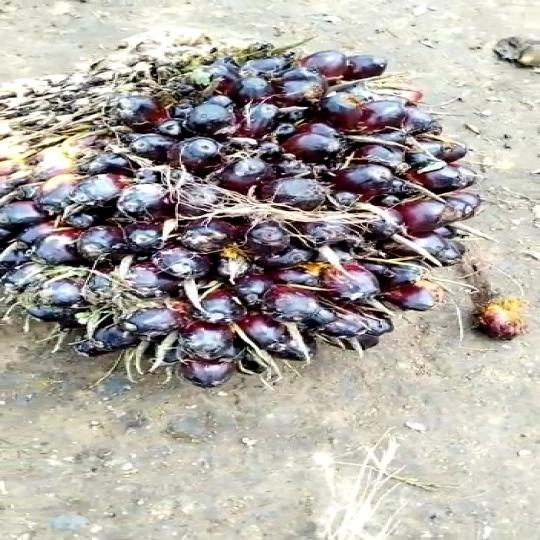mentah: (7, 39, 483, 398)
